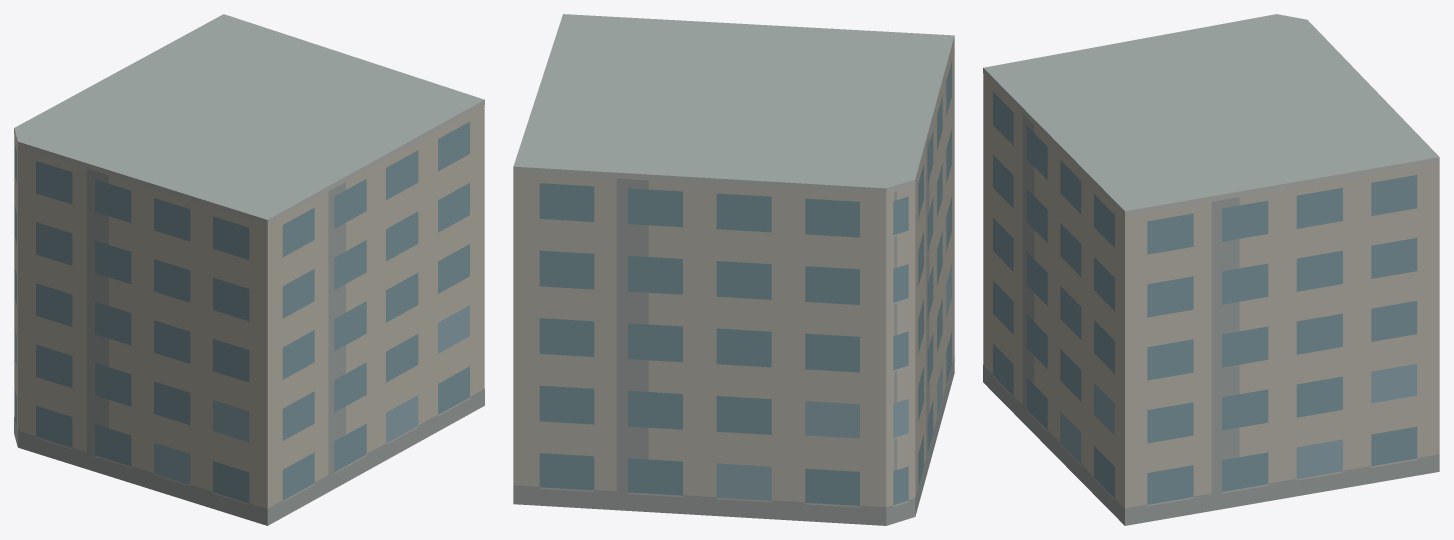
Rendered from survey-upis-32990569.glb.
3 renders of one model, left to right at view 1: azimuth 30°, elevation 25°; view 2: azimuth 150°, elevation 25°; view 3: azimuth 270°, elevation 25°, orthographic. The views are drawn at different scales.
Visible parts, largest first — view 1: survey-upis-32990569.tmp; view 2: survey-upis-32990569.tmp; view 3: survey-upis-32990569.tmp.
Boxes of the visible parts, x1=… form: survey-upis-32990569.tmp: x1=14, y1=14, x2=484, y2=525; survey-upis-32990569.tmp: x1=513, y1=14, x2=954, y2=525; survey-upis-32990569.tmp: x1=983, y1=14, x2=1439, y2=525.
Size of the model in its own units: 18.56 by 13.8 by 18.15.
